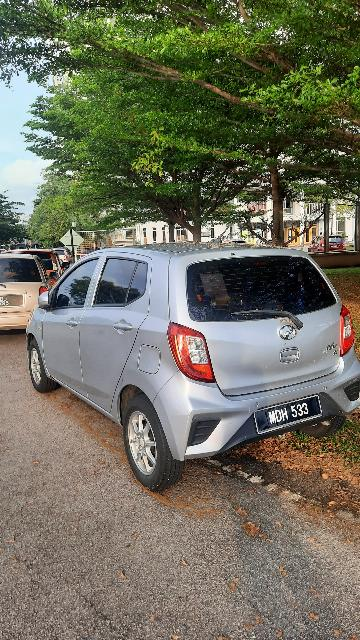License_Plate: (255, 393, 333, 437)
car: (21, 237, 360, 491)
